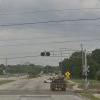Traffic light: (32, 48, 57, 59)
